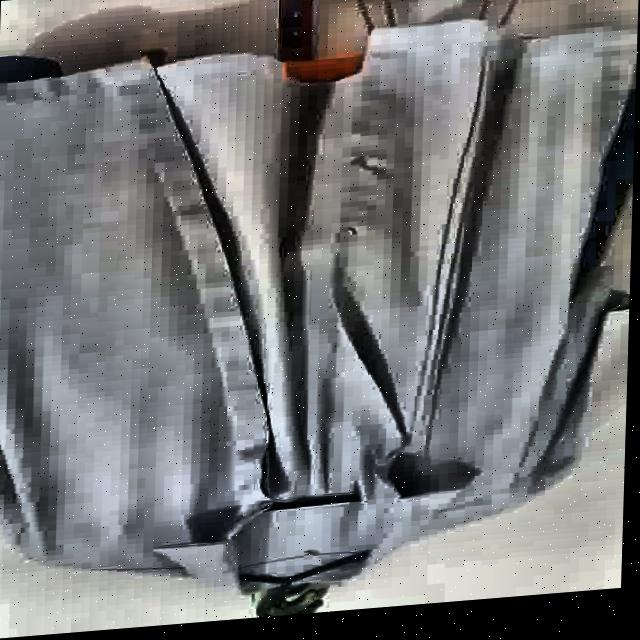clothes: (0, 0, 636, 632)
